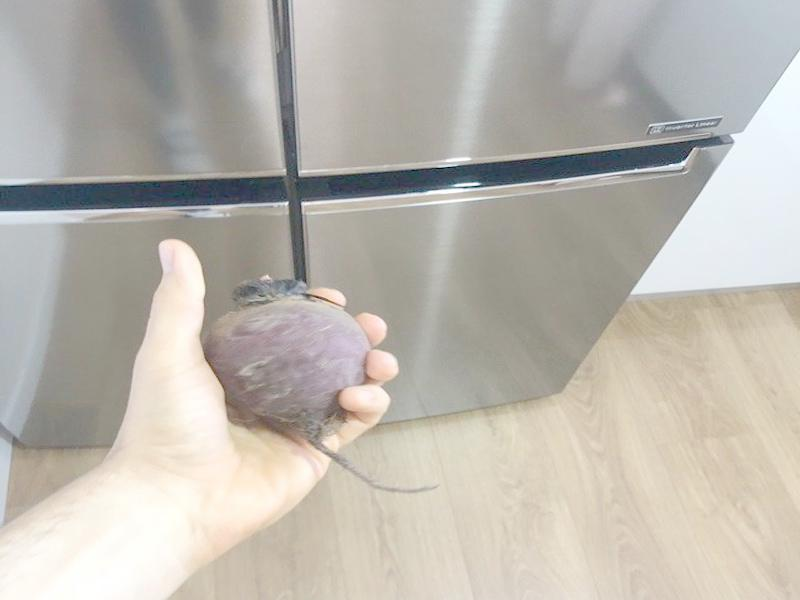Beet: (203, 276, 440, 491)
